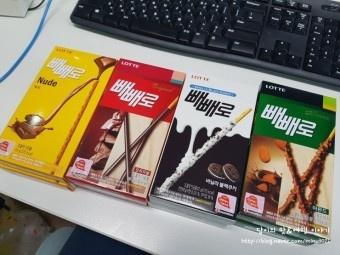snack: (145, 69, 262, 224), (64, 58, 186, 206), (0, 44, 118, 192), (235, 80, 338, 238)
